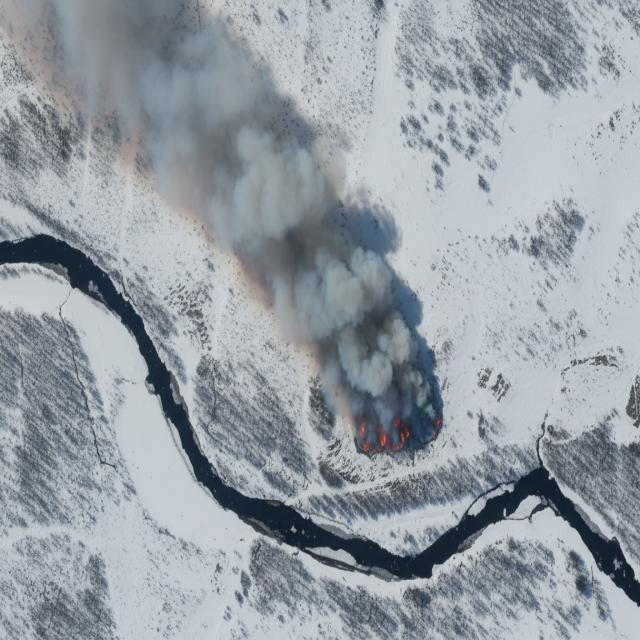wildfire: (287, 238, 448, 458)
